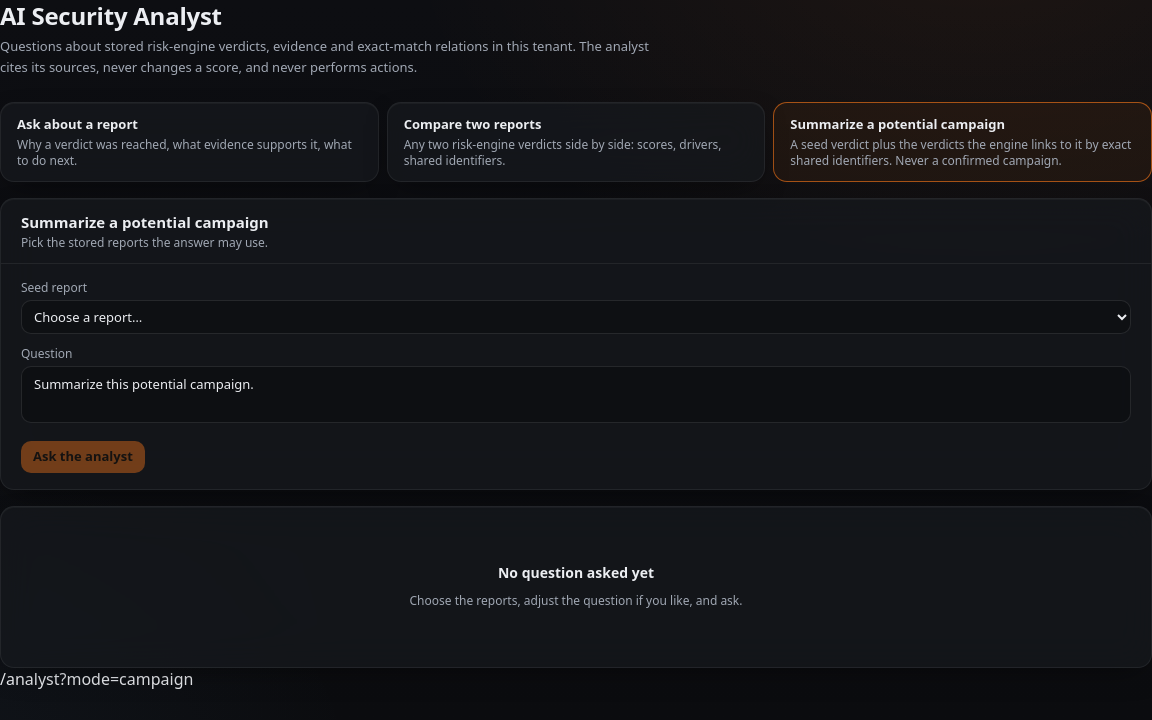
AI Security Analyst page › says when nothing is linked instead of inventing members
Select "Acme Help Desk (SYNTHETIC) vs Acme — 64 High" in the dropdown labelled "Seed report" at (576, 317), box [21,300,1131,334]
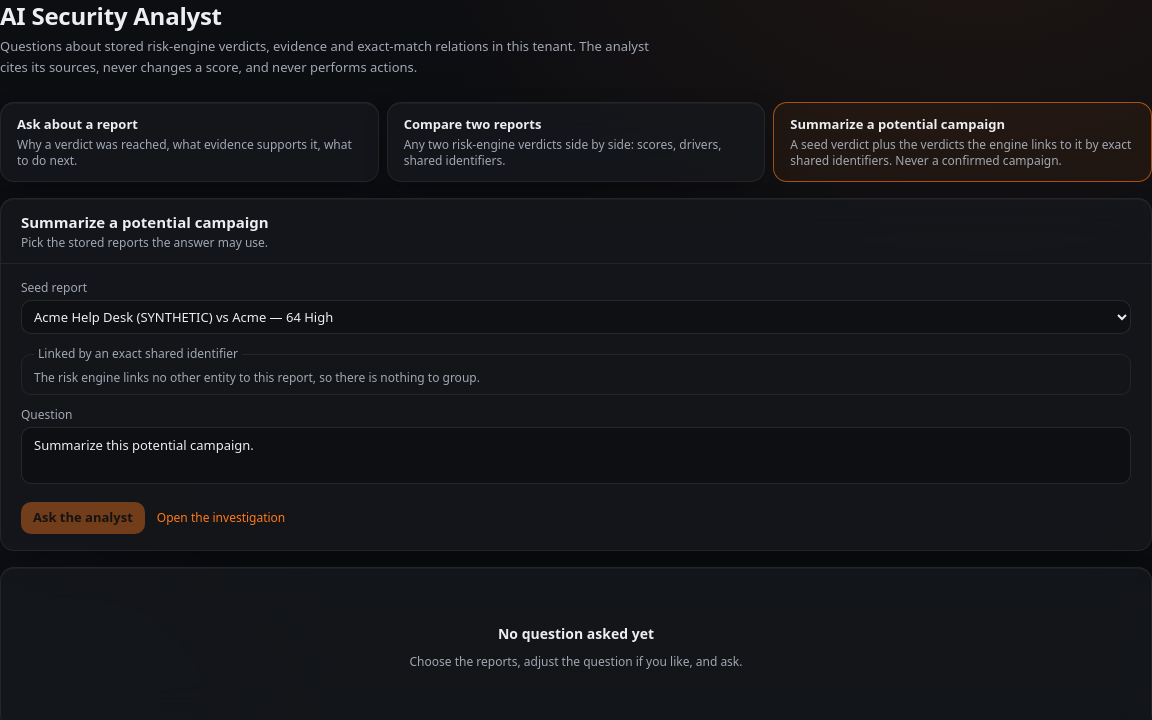
Expected: the button "Ask the analyst" is disabled, [21,502,145,534]
Expected: the text "links no other entity to this report" is shown, [34,369,480,386]
